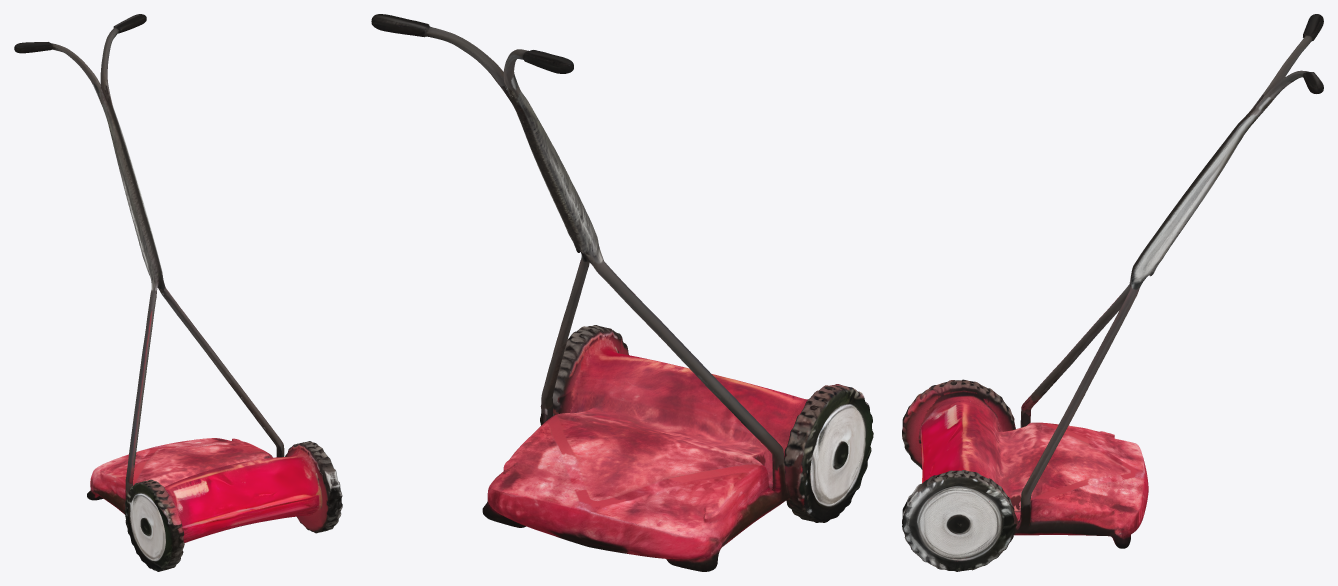
The model's file is hand_shaded.glb.
The picture shows the model from 3 angles, left to right: view 1: azimuth 30°, elevation 25°; view 2: azimuth 150°, elevation 25°; view 3: azimuth 270°, elevation 25°; orthographic projection. The views are drawn at different scales.
Parts seen in each view (by area): view 1: model; view 2: model; view 3: model.
Part boxes in pixels (x1,y1,x2,y2): model: (14,14,342,571); model: (371,14,873,571); model: (902,14,1323,571).
Size of the model in its own units: 0.8678 by 1.9 by 1.53.
1 material, 1 textured.
